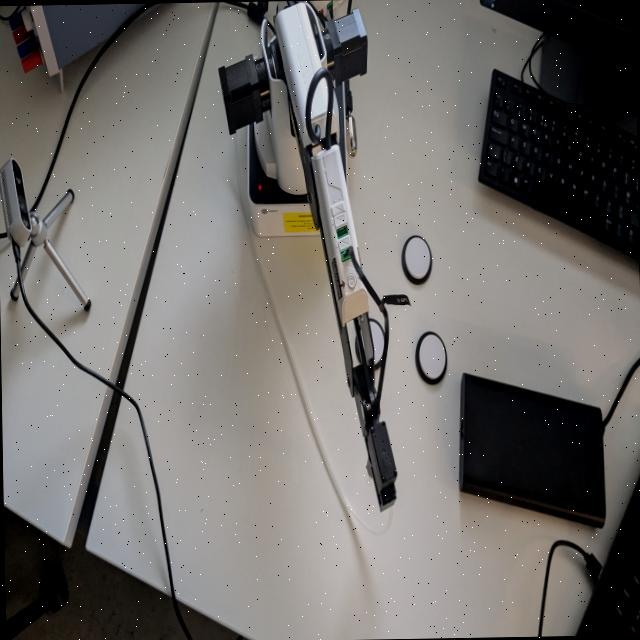Robot-end-effector-HF8z: (360, 414, 400, 516)
